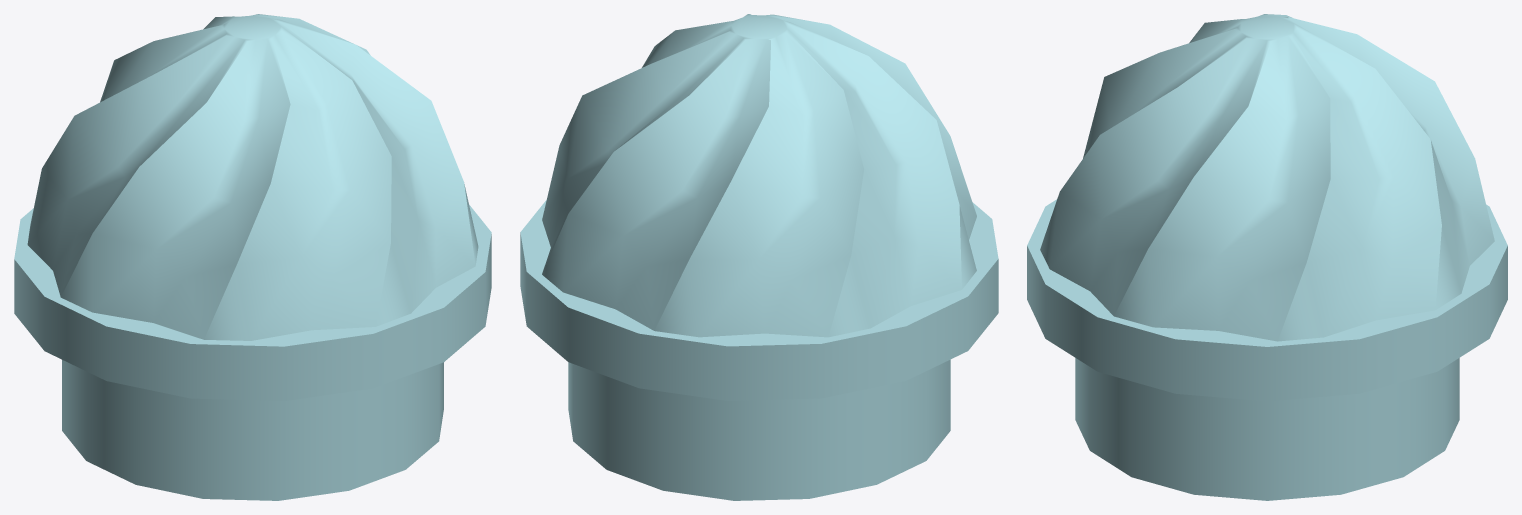
The model's file is round_swirl.fbx.
3 views of the same model, side by side, from view 1: azimuth 30°, elevation 25°; view 2: azimuth 150°, elevation 25°; view 3: azimuth 270°, elevation 25° (orthographic).
Parts seen in each view (by area): view 1: Piece003; view 2: Piece003; view 3: Piece003.
Part boxes in pixels (bbox=[...]): Piece003: bbox=[14, 14, 491, 500]; Piece003: bbox=[520, 14, 998, 500]; Piece003: bbox=[1027, 14, 1507, 500].
Size of the model in its own units: 2000 by 1799 by 2000.
